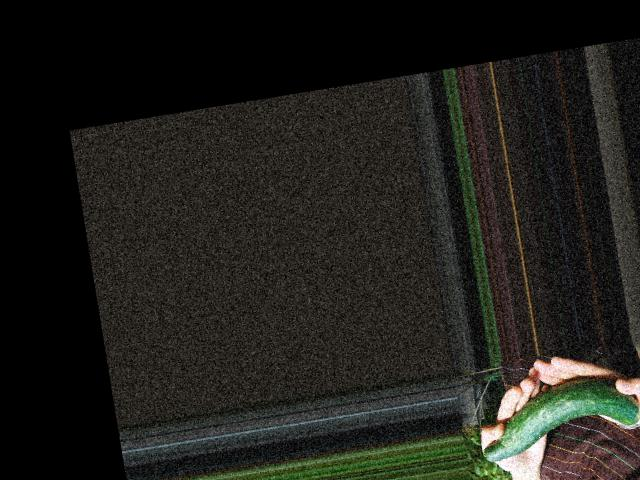cucumber: (475, 370, 640, 462)
